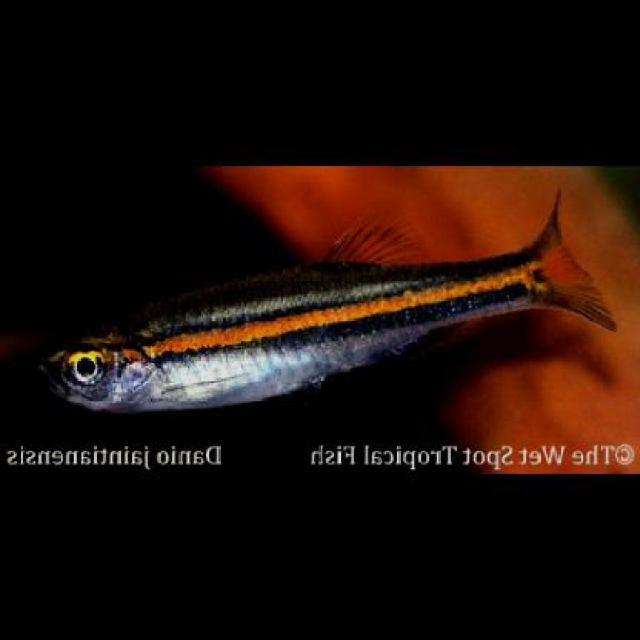ZebraFish: (40, 186, 622, 417)
